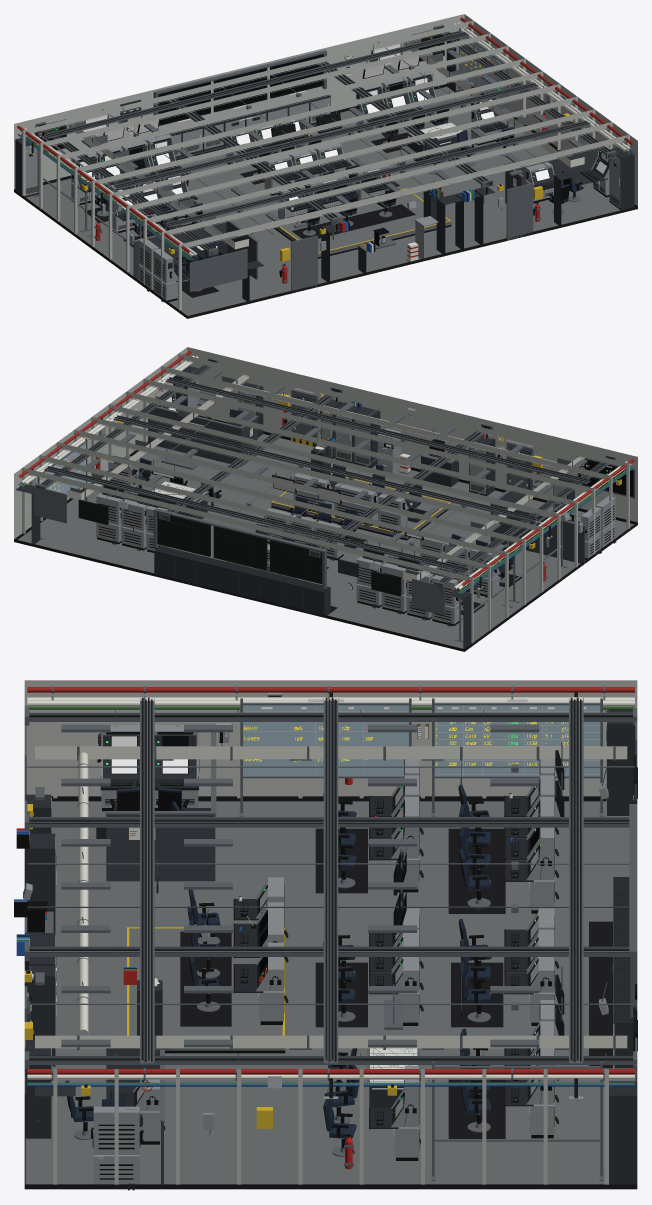
The model's file is cvn_cic.glb.
The picture shows the model from 3 angles, top to bottom: view 1: azimuth 30°, elevation 25°; view 2: azimuth 150°, elevation 25°; view 3: azimuth 270°, elevation 25°; orthographic projection. The views are drawn at different scales.
Parts seen in each view (by area): view 1: static_tex, static, q70_40, screen_lsd_map, screen_lsd_strike, q70_38, screen_lsd_air, q70low_50, q70_42, q70_26, q70_0, q70_6 (+8 smaller); view 2: static_tex, static, q70_22, q70_24, q70_6, q70_4, q70_0, q70_38, q70low_30, q70_40, q70_8, q70_2 (+1 smaller); view 3: static_tex, static, q70_42, q70_26, q70_6, q70_24, q70_38, q70_12, q70low_18, q70_40, q70low_48, q70low_50 (+16 smaller).
Boxes of the visible parts, bbox=[...] form: static_tex: bbox=[14, 14, 637, 315]; static: bbox=[14, 17, 637, 318]; q70_40: bbox=[153, 248, 189, 302]; screen_lsd_map: bbox=[216, 68, 266, 110]; screen_lsd_strike: bbox=[272, 54, 322, 96]; q70_38: bbox=[138, 239, 176, 291]; screen_lsd_air: bbox=[160, 82, 209, 124]; q70low_50: bbox=[525, 162, 562, 203]; q70_42: bbox=[580, 145, 612, 197]; q70_26: bbox=[471, 97, 508, 145]; q70_0: bbox=[71, 152, 108, 204]; q70_6: bbox=[146, 134, 181, 173]; static_tex: bbox=[14, 347, 637, 648]; static: bbox=[14, 350, 637, 651]; q70_22: bbox=[120, 499, 147, 550]; q70_24: bbox=[96, 493, 122, 544]; q70_6: bbox=[356, 556, 383, 608]; q70_4: bbox=[381, 563, 408, 614]; q70_0: bbox=[431, 575, 463, 626]; q70_38: bbox=[581, 507, 601, 559]; q70low_30: bbox=[377, 493, 414, 533]; q70_40: bbox=[595, 496, 616, 548]; q70_8: bbox=[470, 548, 504, 597]; q70_2: bbox=[406, 569, 433, 620]; static_tex: bbox=[23, 680, 637, 1187]; static: bbox=[14, 686, 637, 1189]; q70_42: bbox=[91, 1106, 143, 1190]; q70_26: bbox=[369, 1065, 420, 1160]; q70_6: bbox=[504, 827, 558, 913]; q70_24: bbox=[504, 1048, 558, 1138]; q70_38: bbox=[154, 725, 199, 810]; q70_12: bbox=[369, 797, 423, 892]; q70low_18: bbox=[369, 957, 423, 1025]; q70_40: bbox=[97, 725, 139, 811]; q70low_48: bbox=[504, 957, 555, 1025]; q70low_50: bbox=[110, 1079, 165, 1144].
Size of the model in its own units: 18.14 by 2.61 by 12.22.
